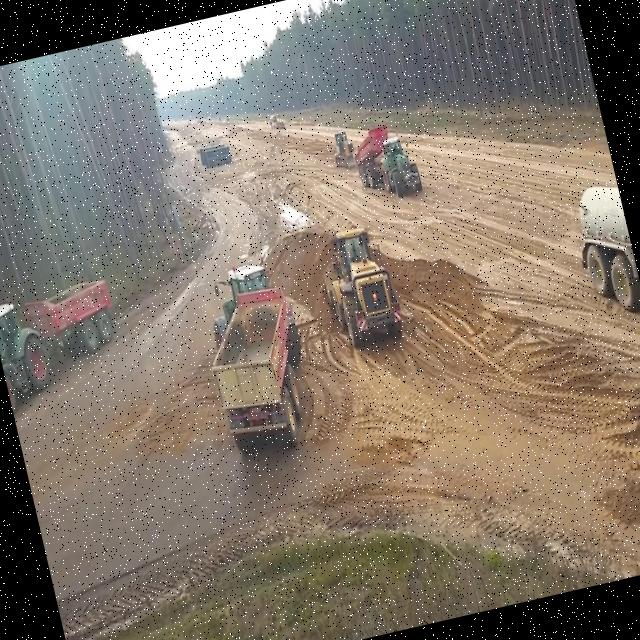Dump Truck: (188, 248, 326, 463), (0, 270, 129, 415), (346, 115, 424, 208)
Loader: (307, 211, 407, 355)
